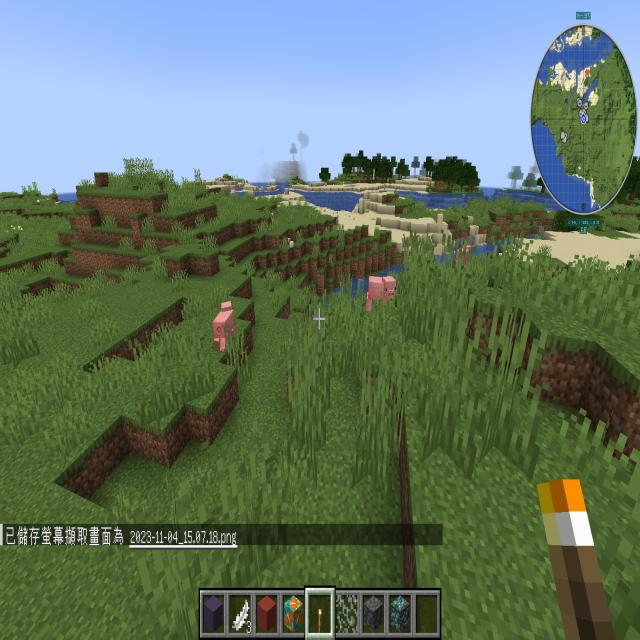chicken: (286, 229, 297, 255), (267, 210, 277, 230)
pig: (363, 265, 403, 320), (211, 290, 241, 358), (454, 241, 472, 276)
